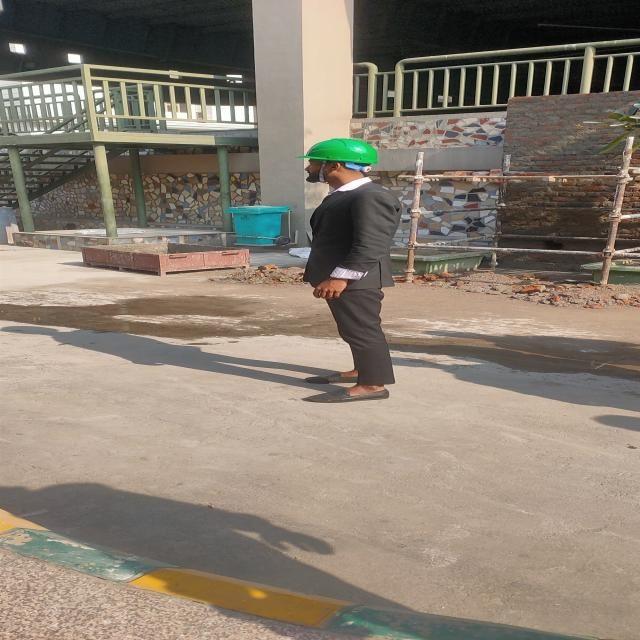no jacket: (308, 137, 396, 402)
